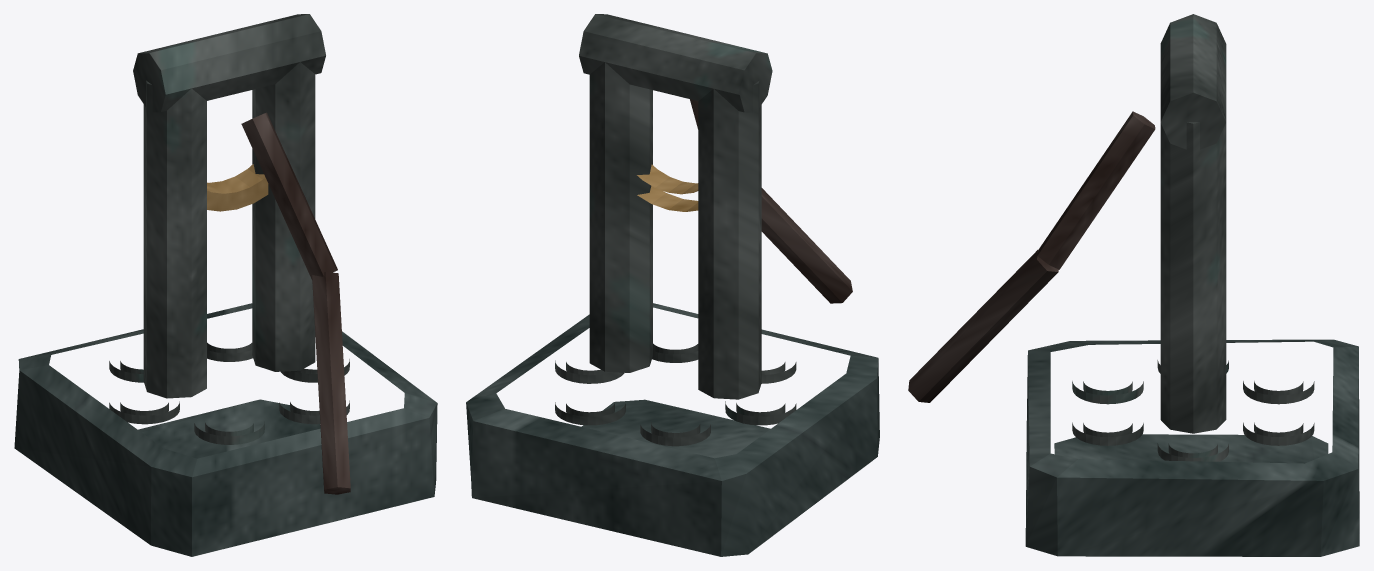
File: 0698_rope_anchor_23.glb
The picture shows the model from 3 angles, left to right: view 1: azimuth 30°, elevation 25°; view 2: azimuth 150°, elevation 25°; view 3: azimuth 270°, elevation 25°; orthographic projection.
Visible parts, largest first — view 1: iron, stone_dark, wood_dark, brass; view 2: iron, stone_dark, wood_dark, brass; view 3: stone_dark, iron, wood_dark.
Part boxes in pixels (bbox=[...]): iron: bbox=[109, 14, 349, 444]; stone_dark: bbox=[14, 303, 437, 556]; wood_dark: bbox=[241, 112, 350, 494]; brass: bbox=[207, 164, 268, 211]; iron: bbox=[555, 14, 796, 446]; stone_dark: bbox=[466, 303, 879, 556]; wood_dark: bbox=[690, 99, 852, 303]; brass: bbox=[637, 164, 698, 211]; stone_dark: bbox=[1025, 339, 1359, 556]; iron: bbox=[1072, 14, 1314, 461]; wood_dark: bbox=[908, 111, 1155, 402].
Size of the model in its own units: 1.22 by 1.78 by 1.65.
4 materials, 4 textured.
